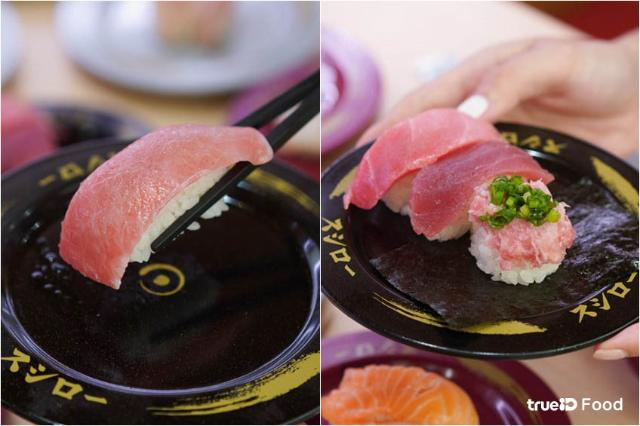janback: (0, 100, 346, 424), (322, 138, 640, 364)
janred: (298, 33, 391, 139)
janwhite: (62, 0, 319, 90), (310, 345, 554, 426), (0, 3, 36, 86)
